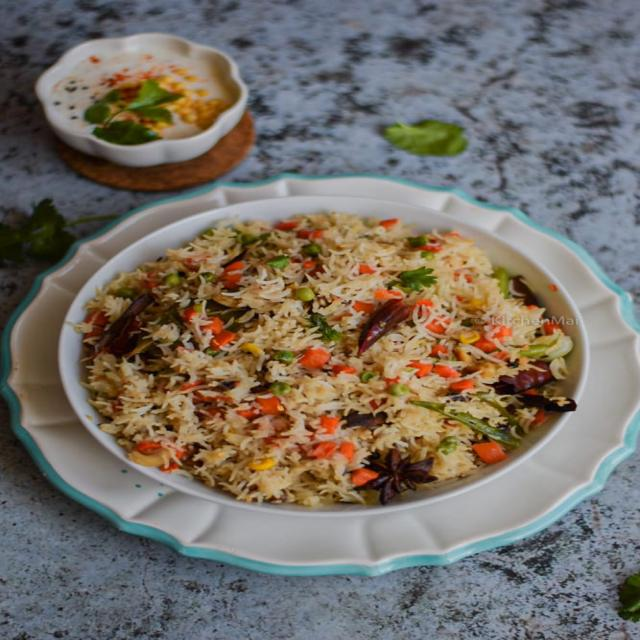veg palav: (61, 197, 592, 522)
